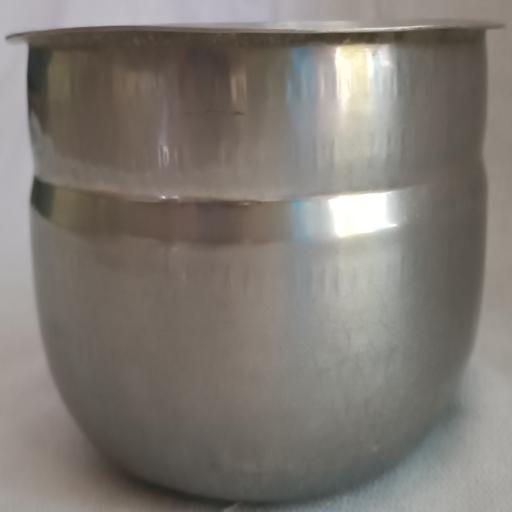vessel: (14, 22, 496, 500)
